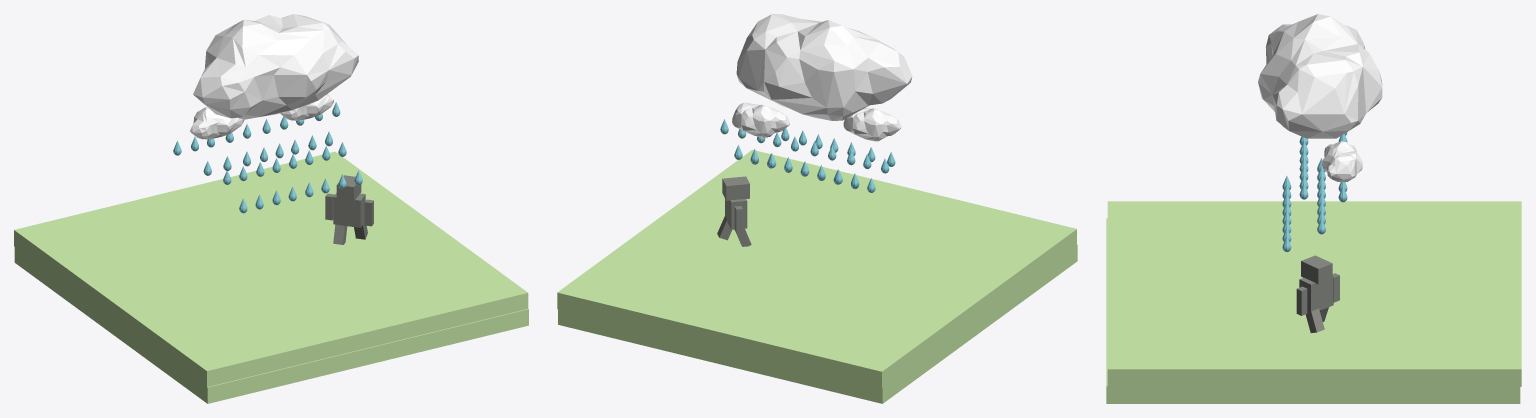
The model's file is testscene.gltf.
3 views of the same model, side by side, from view 1: azimuth 30°, elevation 25°; view 2: azimuth 150°, elevation 25°; view 3: azimuth 270°, elevation 25° (orthographic). The views are drawn at different scales.
Parts seen in each view (by area): view 1: soil1, clouds1, guy:arm2, clouds2, clouds3; view 2: soil1, clouds1, guy:arm2, clouds3, clouds2; view 3: soil1, clouds1, guy:arm2, clouds3.
Part boxes in pixels (x1,y1,x2,y2): soil1: (14,151,528,403); clouds1: (193,14,358,119); guy:arm2: (325,175,373,244); clouds2: (190,107,244,139); clouds3: (280,94,333,120); soil1: (557,149,1077,403); clouds1: (736,14,912,120); guy:arm2: (717,176,751,246); clouds3: (732,102,789,137); clouds2: (843,108,901,141); soil1: (1106,201,1521,403); clouds1: (1258,14,1382,138); guy:arm2: (1296,255,1339,332); clouds3: (1321,141,1362,181).
Bounding box in the file's own units: 26.88 × 21.85 × 28.07.
